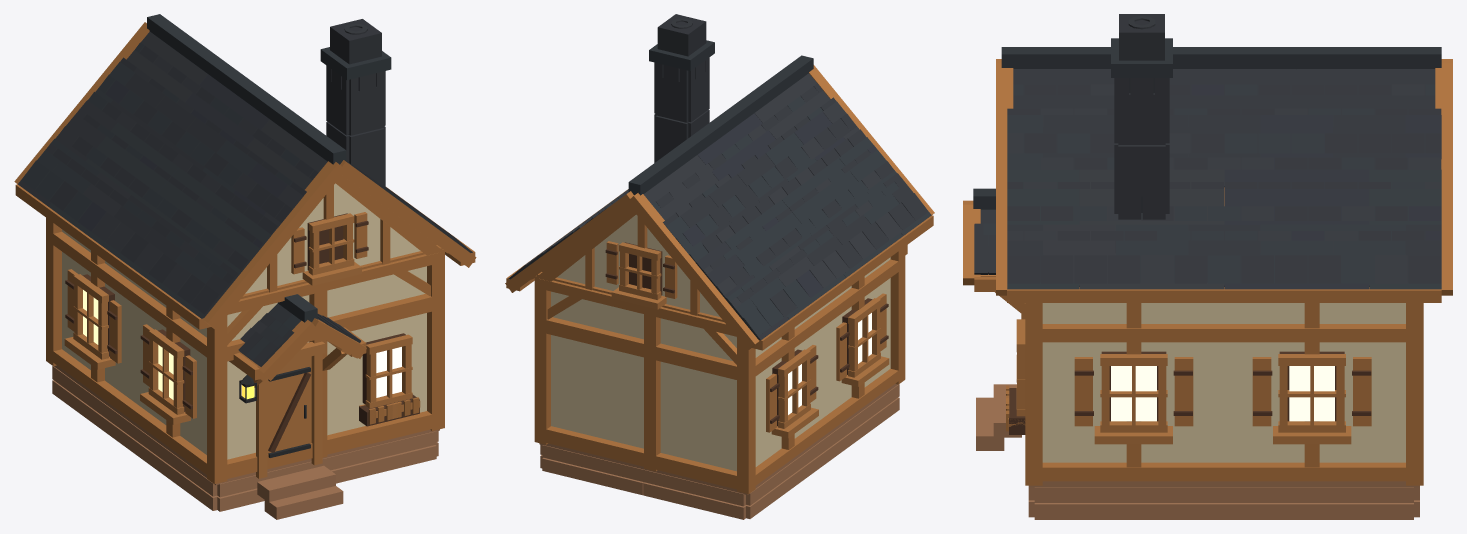
File: house_cottage_b.glb
The picture shows the model from 3 angles, left to right: view 1: azimuth 30°, elevation 25°; view 2: azimuth 150°, elevation 25°; view 3: azimuth 270°, elevation 25°; orthographic projection. The views are drawn at different scales.
Visible parts, largest first — view 1: house_cottage_b_LOD0_cottage, house_cottage_b_LOD1_cottage, house_cottage_b_LOD2_cottage; view 2: house_cottage_b_LOD0_cottage, house_cottage_b_LOD1_cottage, house_cottage_b_LOD2_cottage; view 3: house_cottage_b_LOD0_cottage, house_cottage_b_LOD1_cottage, house_cottage_b_LOD2_cottage.
Boxes of the visible parts, x1,y1,x2,y2 form: house_cottage_b_LOD0_cottage: (15,14,475,519); house_cottage_b_LOD1_cottage: (14,14,476,519); house_cottage_b_LOD2_cottage: (18,14,472,510); house_cottage_b_LOD0_cottage: (506,15,933,519); house_cottage_b_LOD1_cottage: (505,14,934,519); house_cottage_b_LOD2_cottage: (508,55,931,518); house_cottage_b_LOD0_cottage: (963,14,1452,519); house_cottage_b_LOD1_cottage: (963,14,1452,519); house_cottage_b_LOD2_cottage: (973,47,1441,519).
Bounding box in the file's own units: 5.58 × 7.8 × 7.26.
